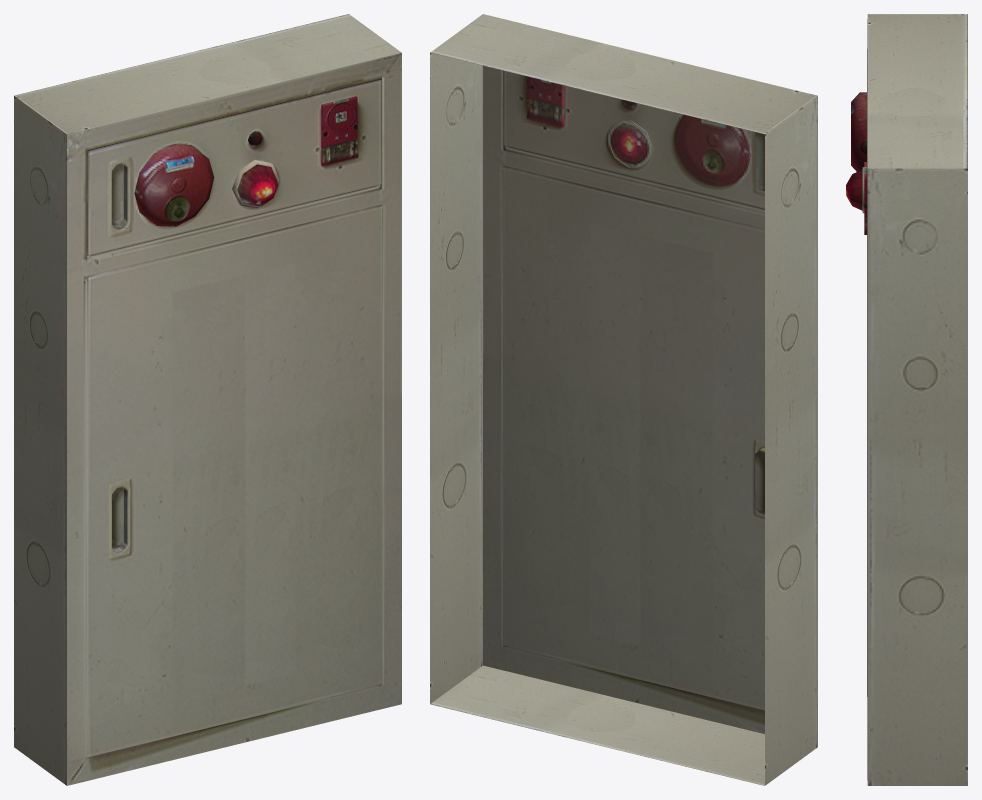
The model's file is alarm_box.FBX.
The picture shows the model from 3 angles, left to right: view 1: azimuth 30°, elevation 25°; view 2: azimuth 150°, elevation 25°; view 3: azimuth 270°, elevation 25°; orthographic projection. The views are drawn at different scales.
Parts seen in each view (by area): view 1: Object02; view 2: Object02; view 3: Object02.
Boxes of the visible parts, x1,y1,x2,y2 form: Object02: (14, 14, 401, 785); Object02: (430, 14, 817, 785); Object02: (846, 14, 967, 785).
Size of the model in its own units: 23.15 by 43.03 by 7.69.
